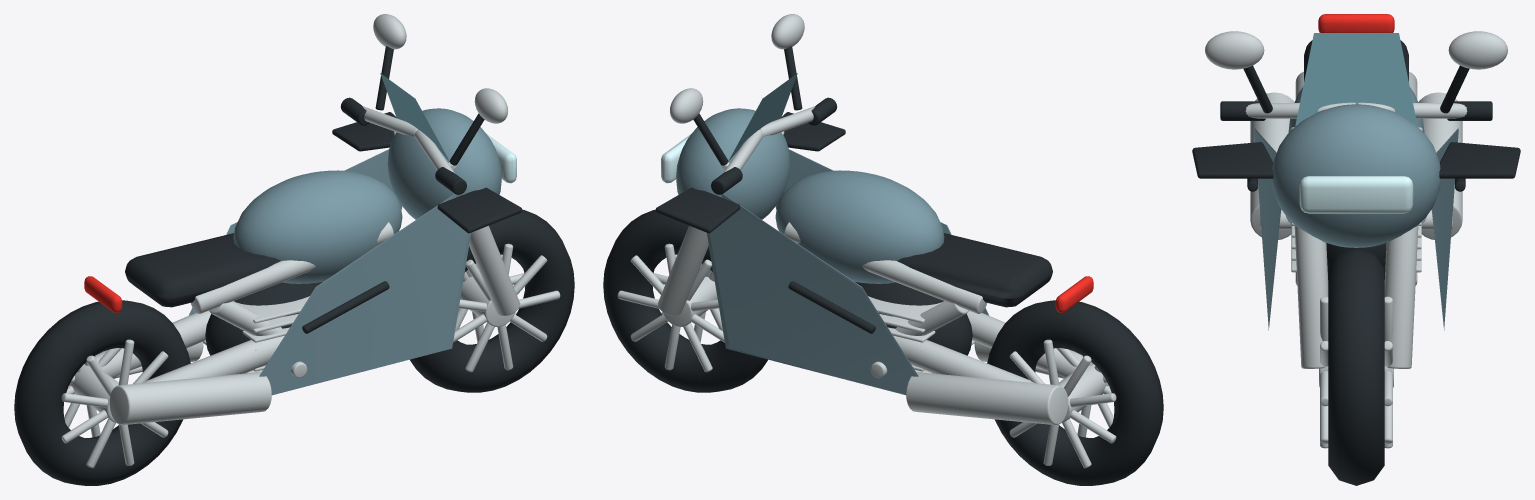
Rendered from ApexRR.fbx.
The picture shows the model from 3 angles, left to right: view 1: azimuth 30°, elevation 25°; view 2: azimuth 150°, elevation 25°; view 3: azimuth 270°, elevation 25°; orthographic projection. The views are drawn at different scales.
Visible parts, largest first — view 1: BodyPaint, BrushedAlloy.002, TrimRubber.001, TrimRubber.002, TrimRubber, BrushedAlloy.001, BrushedAlloy, Glazing, Taillamp, Headlamp; view 2: BodyPaint, BrushedAlloy.002, TrimRubber.001, TrimRubber.002, TrimRubber, BrushedAlloy.001, BrushedAlloy, Glazing, Taillamp, Headlamp; view 3: BodyPaint, BrushedAlloy.002, TrimRubber, TrimRubber.002, Glazing, Headlamp, BrushedAlloy, Taillamp.
Part boxes in pixels (left/top/right/bottom): BodyPaint: left=189, top=108, right=501, bottom=395; BrushedAlloy.002: left=95, top=14, right=520, bottom=425; TrimRubber.001: left=14, top=300, right=190, bottom=485; TrimRubber.002: left=125, top=46, right=522, bottom=355; TrimRubber: left=410, top=209, right=574, bottom=392; BrushedAlloy.001: left=61, top=339, right=168, bottom=468; BrushedAlloy: left=453, top=243, right=560, bottom=372; Glazing: left=380, top=73, right=449, bottom=161; Taillamp: left=84, top=276, right=122, bottom=312; Headlamp: left=486, top=133, right=516, bottom=183; BodyPaint: left=676, top=108, right=988, bottom=395; BrushedAlloy.002: left=657, top=14, right=1082, bottom=425; TrimRubber.001: left=987, top=300, right=1163, bottom=485; TrimRubber.002: left=655, top=46, right=1052, bottom=355; TrimRubber: left=603, top=209, right=767, bottom=392; BrushedAlloy.001: left=1009, top=339, right=1116, bottom=468; BrushedAlloy: left=617, top=243, right=724, bottom=372; Glazing: left=728, top=73, right=797, bottom=161; Taillamp: left=1055, top=276, right=1093, bottom=312; Headlamp: left=661, top=133, right=691, bottom=183; BodyPaint: left=1254, top=87, right=1458, bottom=330; BrushedAlloy.002: left=1205, top=31, right=1507, bottom=368; TrimRubber: left=1328, top=248, right=1384, bottom=485; TrimRubber.002: left=1192, top=40, right=1520, bottom=279; Glazing: left=1295, top=33, right=1417, bottom=126; Headlamp: left=1299, top=176, right=1413, bottom=213; BrushedAlloy: left=1319, top=296, right=1393, bottom=448; Taillamp: left=1318, top=14, right=1394, bottom=32.
Bounding box in the file's own units: 271 × 162 × 116.
